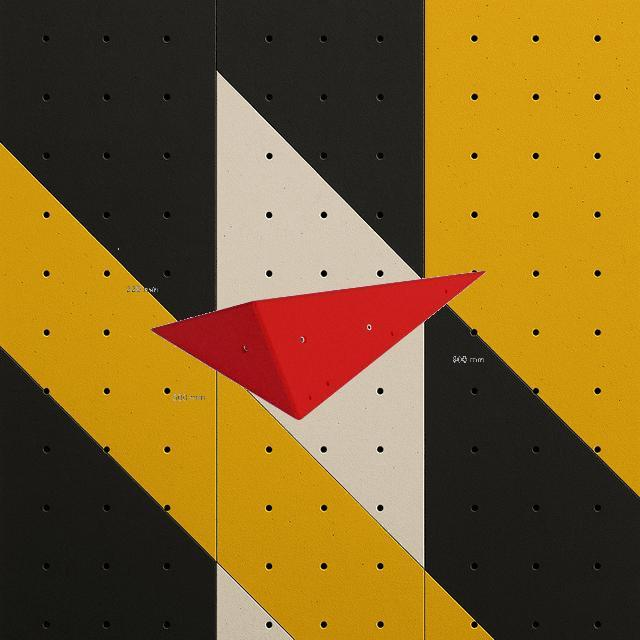Volume: (147, 268, 486, 419)
